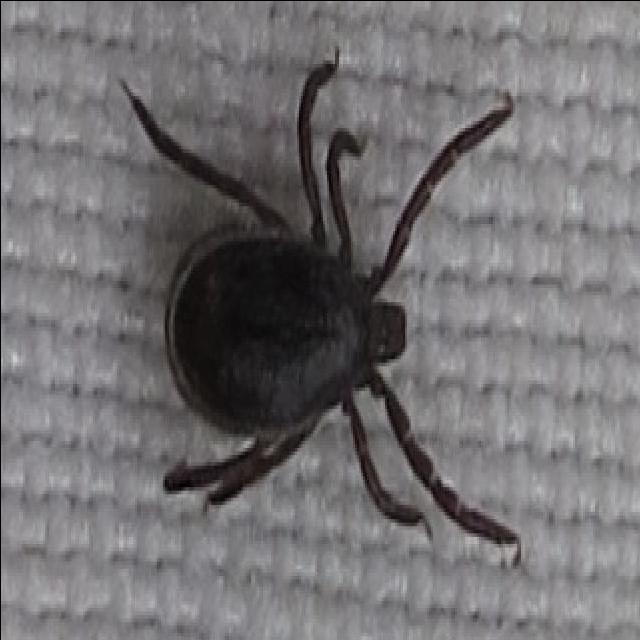Ixodes Ricinus-M: (126, 57, 518, 558)
